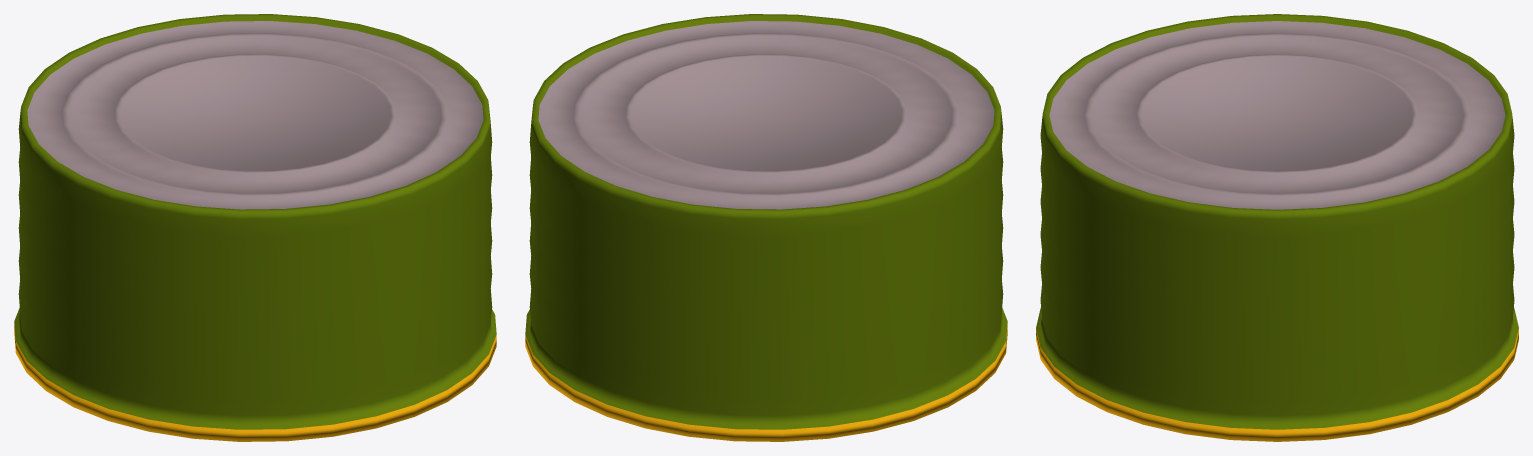
The model's file is PeasCan.fbx.
3 renders of one model, left to right at view 1: azimuth 30°, elevation 25°; view 2: azimuth 150°, elevation 25°; view 3: azimuth 270°, elevation 25°, orthographic.
Visible parts, largest first — view 1: Cylinder; view 2: Cylinder; view 3: Cylinder.
Boxes of the visible parts, x1,y1,x2,y2 form: Cylinder: (14, 14, 496, 441); Cylinder: (525, 14, 1007, 441); Cylinder: (1036, 14, 1518, 441).
Size of the model in its own units: 204 by 106 by 204.
